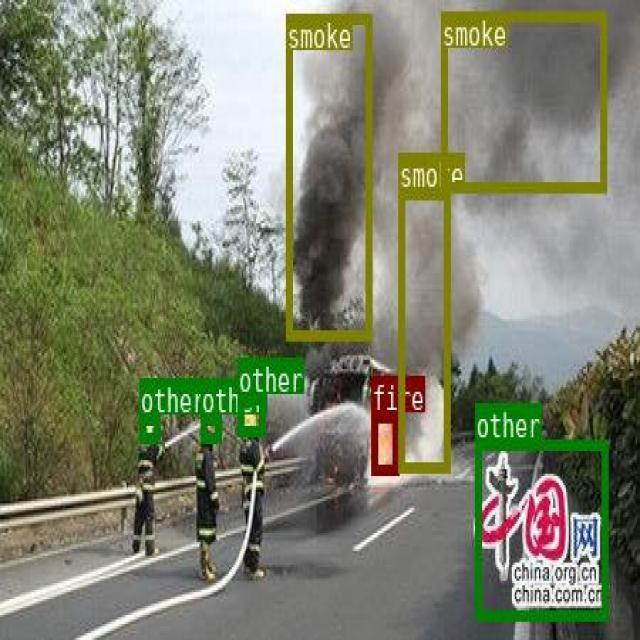fire: (370, 410, 397, 473)
smoke: (441, 10, 606, 190), (285, 13, 370, 338), (397, 187, 449, 470)
